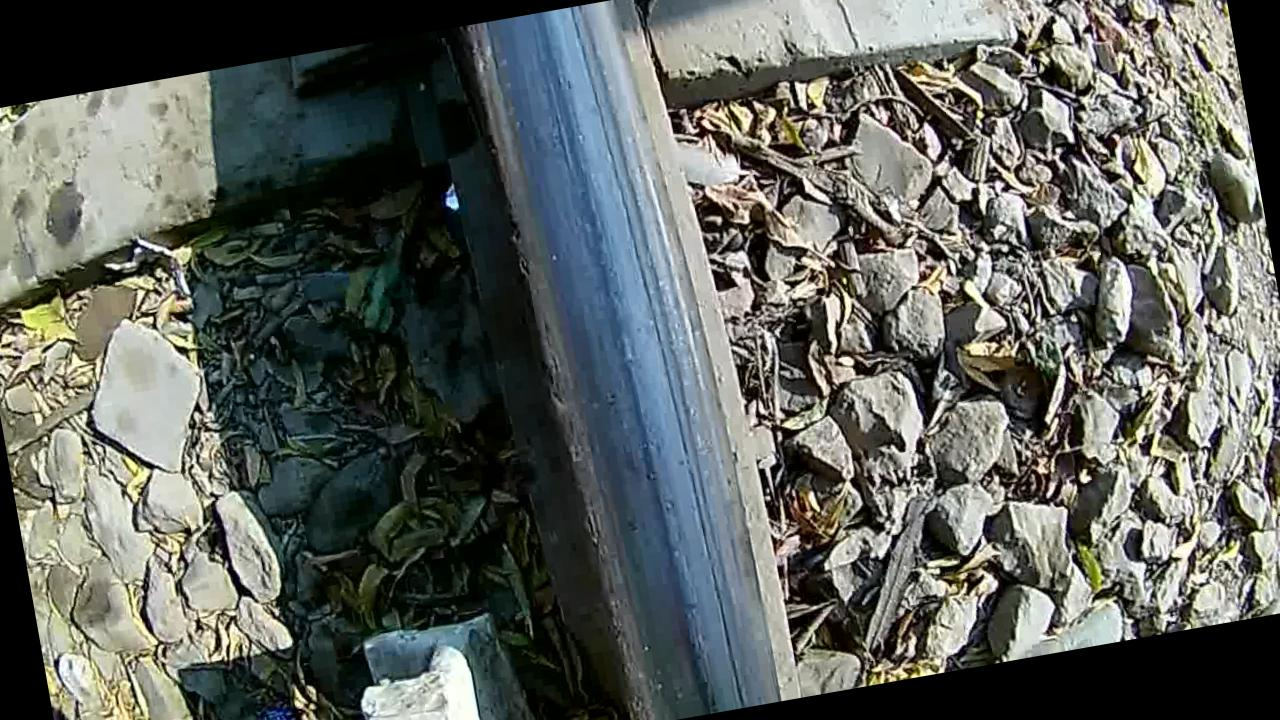clip_missing: (456, 0, 785, 720)
